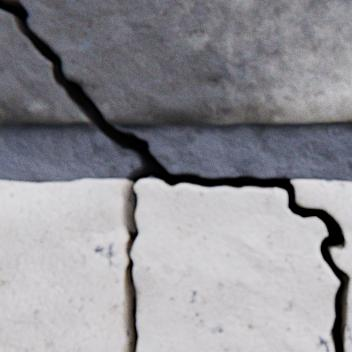broken_brick: (3, 0, 351, 125), (132, 179, 338, 351), (0, 180, 129, 351), (0, 10, 91, 124), (292, 180, 351, 351)
crack: (0, 0, 350, 351)
